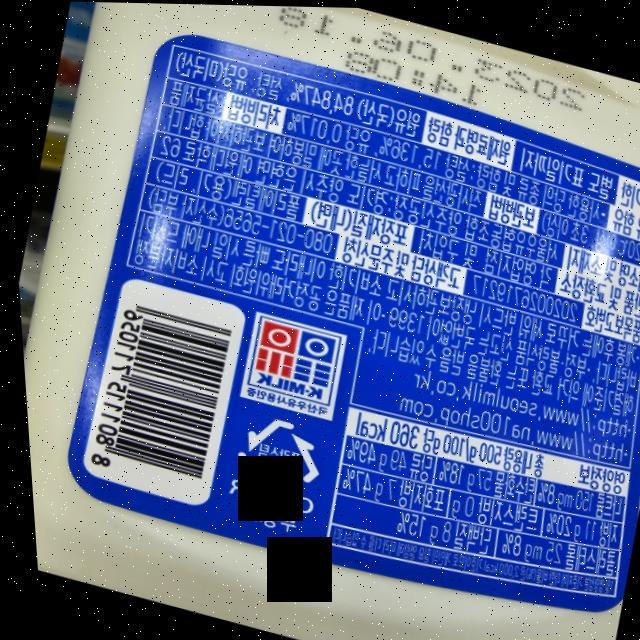Plastic: (221, 403, 329, 494)
